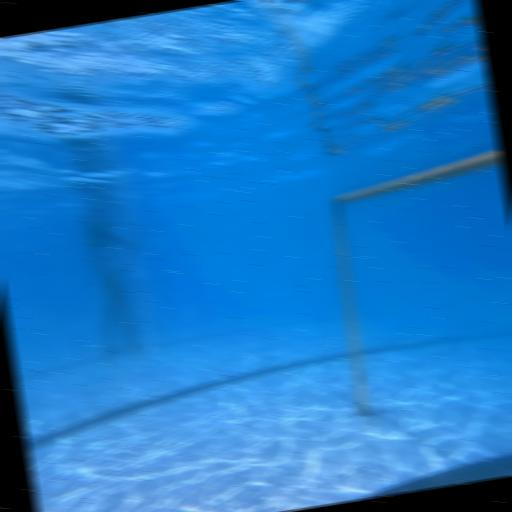gate: (317, 146, 512, 417)
